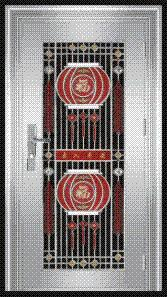door: (7, 4, 161, 290)
